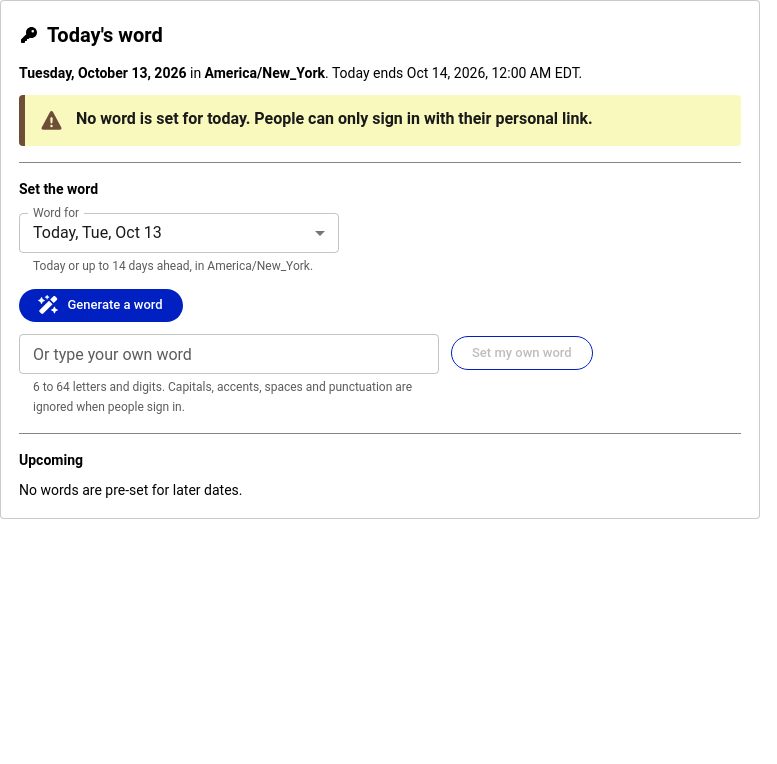
generate a word › Copy falls back to execCommand (Gate-2 S-5), like the roster's Copy link › with NO Clipboard API at all (an insecure origin), copies via a transient textarea
Expected: the element with test id "day-word-date-line" is shown, [19,65,582,81]
Click the button "Generate a word": (101, 305) [19,289,183,322]
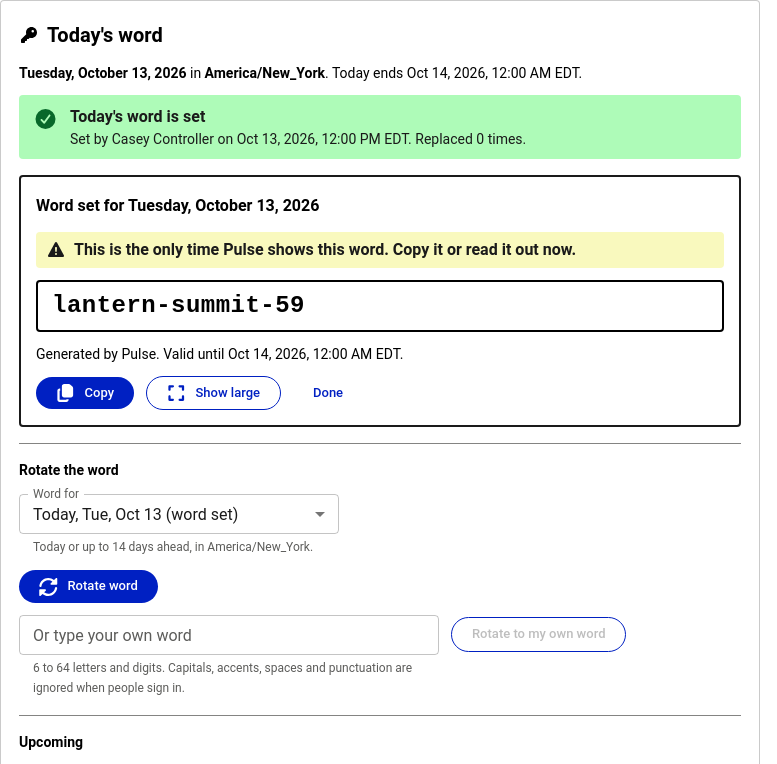
Result: the element with test id "day-word-result" is shown at [19,175,741,427]
Click the button "Copy": (85, 393) [36,377,134,409]
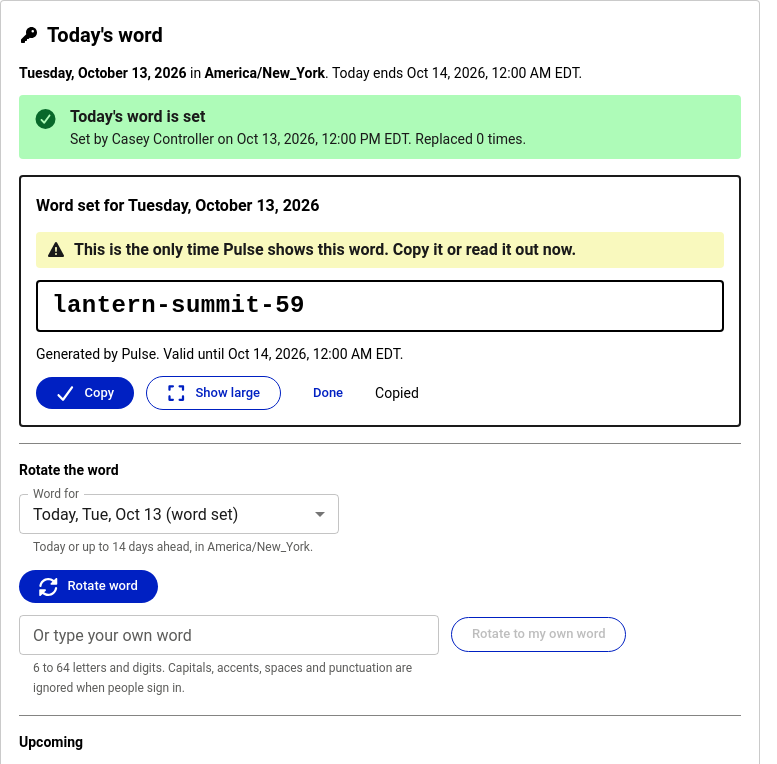
Result: the text with test id "day-word-copied" reads "Copied" at [375,385,419,401]
